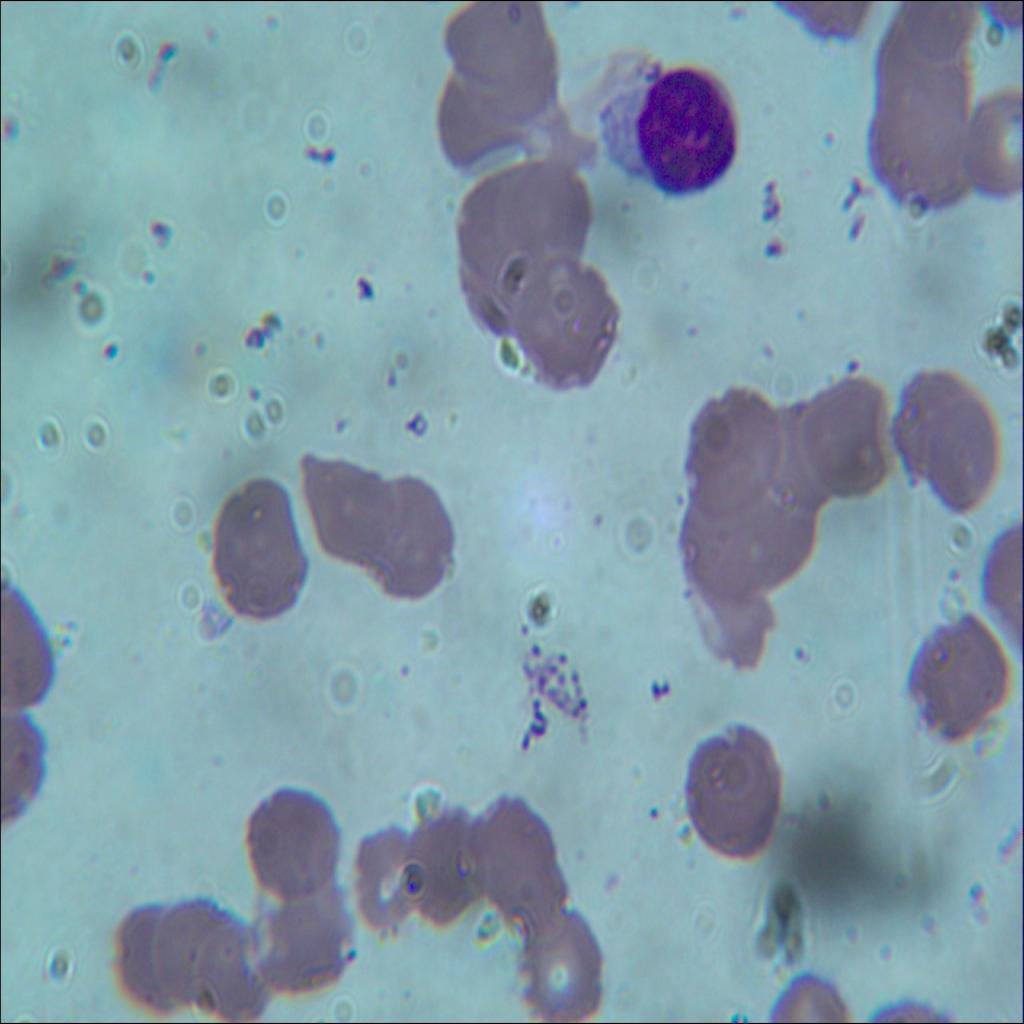Eritrosit: (893, 362, 996, 522), (908, 605, 1015, 751), (688, 719, 786, 864), (211, 479, 309, 619), (516, 260, 621, 390), (469, 785, 558, 934), (681, 384, 779, 514), (515, 894, 606, 1023), (240, 782, 342, 897), (363, 479, 458, 597), (866, 99, 966, 208), (302, 451, 388, 574), (798, 384, 886, 497), (681, 486, 766, 598), (255, 895, 353, 991), (756, 402, 839, 511), (454, 186, 536, 294), (406, 809, 478, 929), (189, 922, 273, 1023), (886, 0, 976, 94), (516, 161, 590, 275), (738, 472, 814, 582), (470, 34, 558, 129), (430, 71, 521, 162), (149, 898, 230, 995), (115, 897, 182, 1011), (444, 0, 538, 79), (355, 825, 423, 928), (963, 94, 1023, 198)
Limfoblast: (626, 51, 744, 201)
Platelet: (146, 211, 178, 252), (95, 332, 126, 368), (250, 8, 281, 42), (330, 408, 356, 444), (584, 504, 613, 534), (199, 14, 222, 51), (186, 330, 210, 362), (639, 798, 661, 832), (0, 111, 15, 159), (841, 354, 868, 379), (792, 638, 814, 665), (393, 655, 413, 684), (819, 118, 836, 150), (762, 235, 784, 258), (66, 269, 86, 294), (515, 612, 533, 639), (244, 376, 262, 402), (355, 268, 373, 294), (143, 268, 163, 289)
